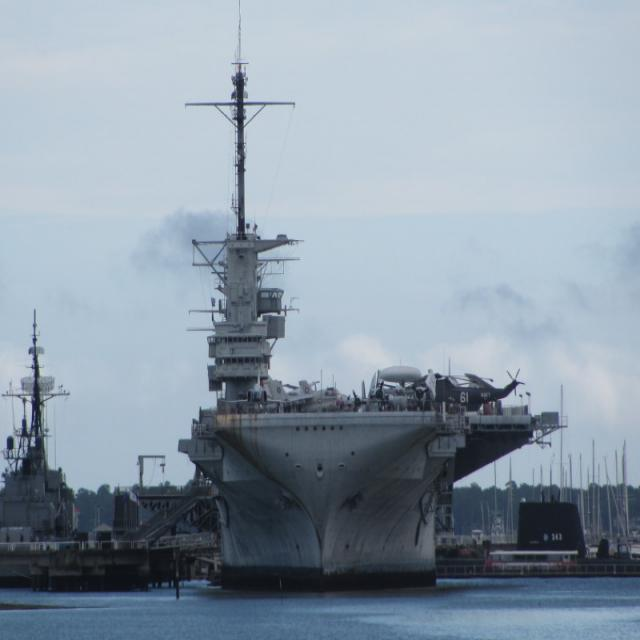Portanaves: (180, 2, 549, 598)
